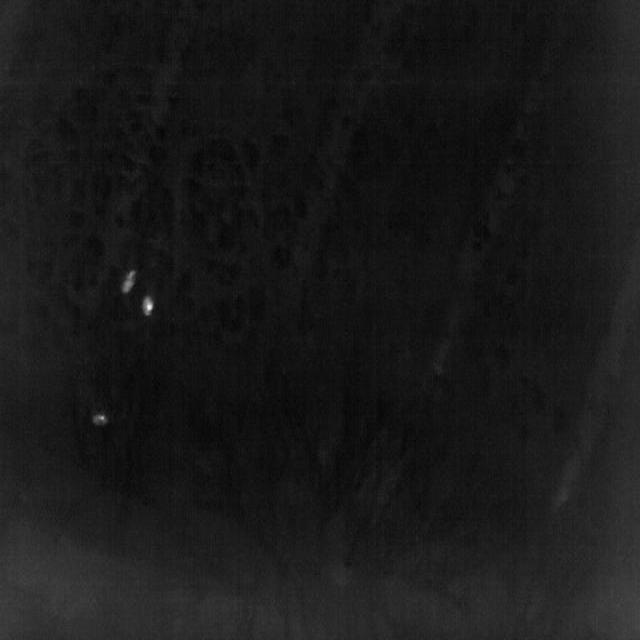deer: (121, 270, 136, 293), (141, 296, 154, 316), (93, 415, 109, 426)
